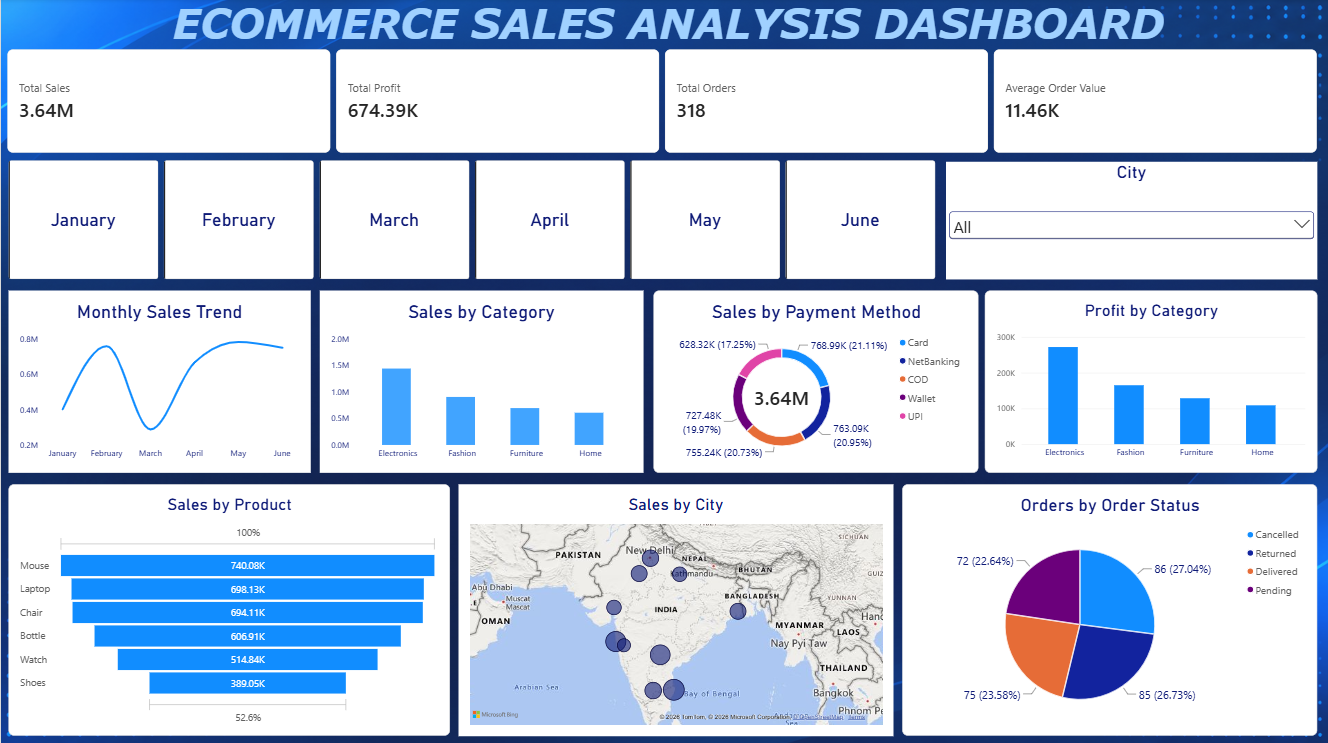

The page's visual inventory and layout, read from the dashboard file:
{"tool":"powerbi","page":{"name":"Page 1","canvas":[1920,1080],"ordinal":0},"visuals":[{"type":"textbox","box":[10.3,0,1910.1,92.6],"z":0},{"type":"lineChart","title":"Monthly Sales Trend","fields":{"Category":["ecommerce orders.Month"],"Y":["Sum(ecommerce orders.Sales)"]},"box":[10.9,423.5,437.9,264.2],"z":1000},{"type":"lineStackedColumnComboChart","title":"Sales by Category","fields":{"Category":["ecommerce orders.Category"],"Y":["Sum(ecommerce orders.Sales)"]},"box":[461.5,423.5,468.7,264.2],"z":2000},{"type":"map","title":"Sales by City","fields":{"Category":["ecommerce orders.City"],"Size":["Sum(ecommerce orders.Sales)"]},"box":[662.3,704,629.8,363.7],"z":3000},{"type":"donutChart","title":"Sales by Payment Method","fields":{"Category":["ecommerce orders.Payment_Method"],"Y":["Sum(ecommerce orders.Sales)"]},"box":[944.6,423.5,470.5,264.2],"z":4000},{"type":"pieChart","title":"Orders by Order Status","fields":{"Category":["ecommerce orders.Order_Status"],"Y":["CountNonNull(ecommerce orders.Sales)"]},"box":[1304.8,704,600.8,363.7],"z":5000},{"type":"columnChart","title":"Profit by Category","fields":{"Category":["ecommerce orders.Category"],"Y":["Sum(ecommerce orders.Profit)"]},"box":[1424.2,423.5,481.4,264.2],"z":6000},{"type":"funnel","title":"Sales by Product","fields":{"Category":["ecommerce orders.Item_Name"],"Y":["Sum(ecommerce orders.Sales)"]},"box":[10.9,704,638.8,363.7],"z":7000},{"type":"advancedSlicerVisual","fields":{"Values":["ecommerce orders.Month"]},"box":[10.9,191.8,1344.6,215.3],"z":8000},{"type":"slicer","title":"City","fields":{"Values":["ecommerce orders.City"]},"box":[1368.1,237.1,537.5,170.1],"z":9000},{"type":"cardVisual","fields":{"Data":["Dax Measures.Total Sales","Dax Measures.Total Profit","Dax Measures.Total Orders","Dax Measures.Average Order Value"]},"box":[9,74.2,1896.5,150.2],"z":10000}]}

Visuals, with their boxes in screenshot pixels (x1, y1, x2, y2), scaled from the page's 1920x1080 canvas onto the 1328x743 screenshot:
textbox: BBox(7, 0, 1327, 64)
"Monthly Sales Trend" lineChart: BBox(8, 291, 310, 473)
"Sales by Category" lineStackedColumnComboChart: BBox(319, 291, 643, 473)
"Sales by City" map: BBox(458, 484, 894, 735)
"Sales by Payment Method" donutChart: BBox(653, 291, 979, 473)
"Orders by Order Status" pieChart: BBox(902, 484, 1318, 735)
"Profit by Category" columnChart: BBox(985, 291, 1318, 473)
"Sales by Product" funnel: BBox(8, 484, 449, 735)
advancedSlicerVisual - ecommerce orders.Month: BBox(8, 132, 938, 280)
"City" slicer: BBox(946, 163, 1318, 280)
cardVisual - Dax Measures.Total Sales x Dax Measures.Total Profit: BBox(6, 51, 1318, 154)
